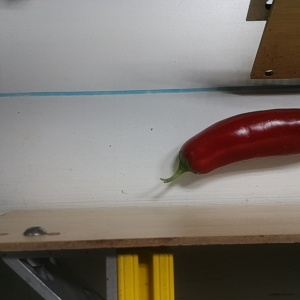Cut Point: (173, 144, 204, 177)
